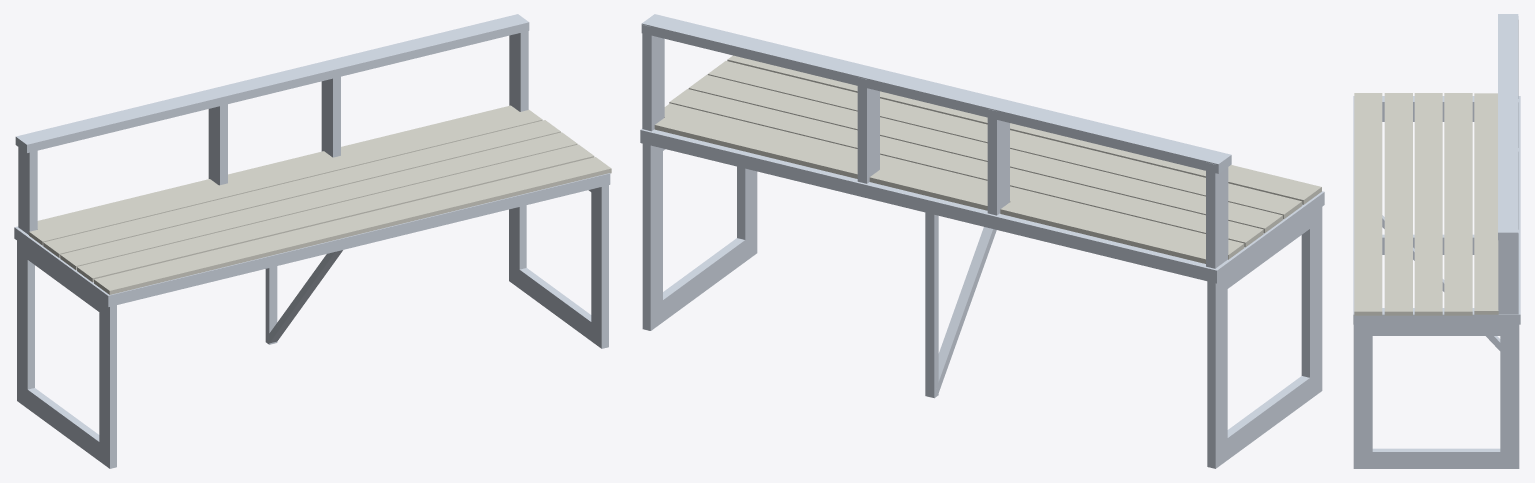
The model's file is ghe2.fbx.
The picture shows the model from 3 angles, left to right: view 1: azimuth 30°, elevation 25°; view 2: azimuth 150°, elevation 25°; view 3: azimuth 270°, elevation 25°; orthographic projection. The views are drawn at different scales.
Visible parts, largest first — view 1: Plane.008, Plane; view 2: Plane, Plane.008; view 3: Plane.008, Plane.
Part boxes in pixels (x1,y1,x2,y2): Plane.008: (29,105,611,294); Plane: (14,14,610,468); Plane: (640,14,1324,468); Plane.008: (654,55,1321,263); Plane.008: (1354,93,1498,315); Plane: (1353,14,1520,468).
Size of the model in its own units: 627 by 316 by 202.
